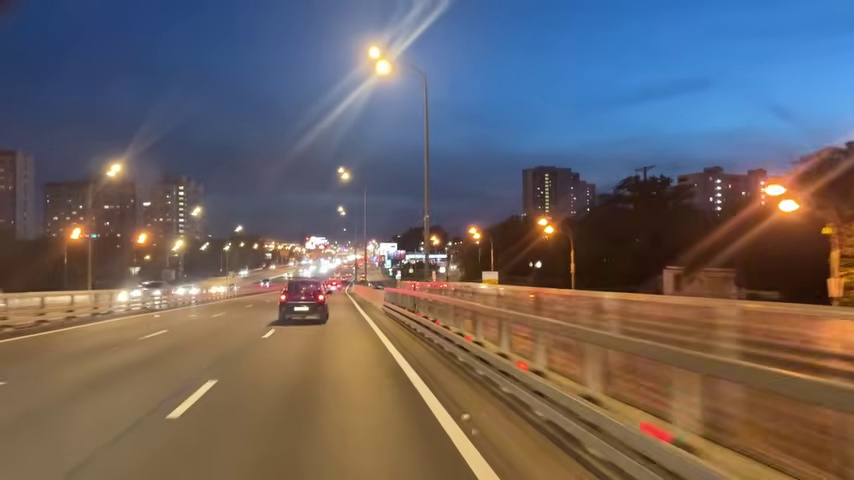acesa: (758, 179, 801, 219), (365, 43, 395, 79), (534, 215, 558, 241), (103, 160, 126, 182), (64, 224, 86, 245), (466, 224, 484, 243), (134, 230, 152, 247), (336, 167, 353, 184), (189, 205, 204, 220), (335, 205, 348, 219), (233, 222, 246, 236)
